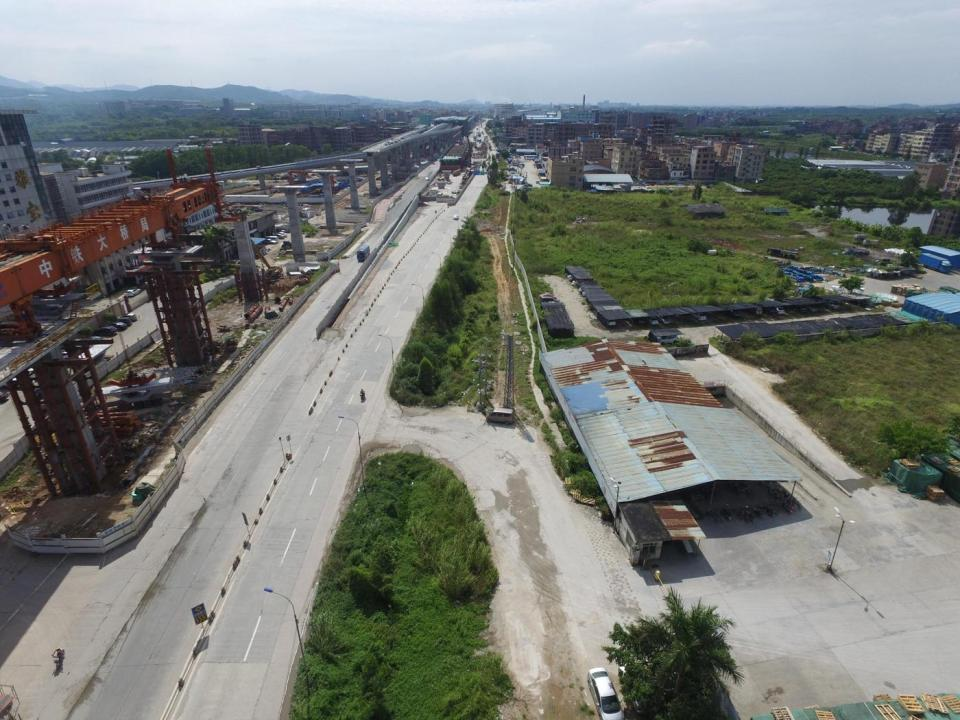bus: (357, 245, 370, 261)
car: (587, 667, 627, 720), (620, 667, 660, 715), (657, 333, 679, 344), (100, 326, 117, 337), (658, 313, 673, 324), (570, 279, 587, 288), (692, 310, 707, 320), (771, 303, 783, 315), (542, 296, 560, 304), (110, 322, 126, 331), (765, 304, 776, 317), (750, 305, 763, 316), (116, 317, 133, 325), (540, 293, 559, 300), (646, 313, 658, 324), (727, 308, 740, 318), (607, 315, 617, 326), (126, 288, 139, 296), (122, 314, 135, 322), (637, 314, 647, 324), (579, 285, 592, 292), (263, 238, 276, 244), (582, 292, 592, 298), (570, 276, 581, 281), (568, 274, 577, 279), (276, 232, 287, 236), (275, 234, 283, 239), (453, 215, 459, 220), (425, 177, 429, 181)
truck: (918, 253, 950, 274)
van: (486, 407, 514, 425), (262, 236, 279, 241)
